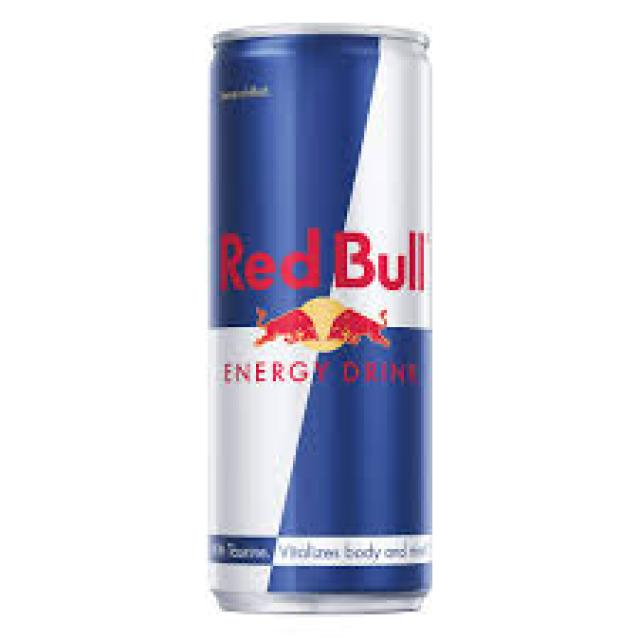red-bull: (206, 20, 435, 613)
